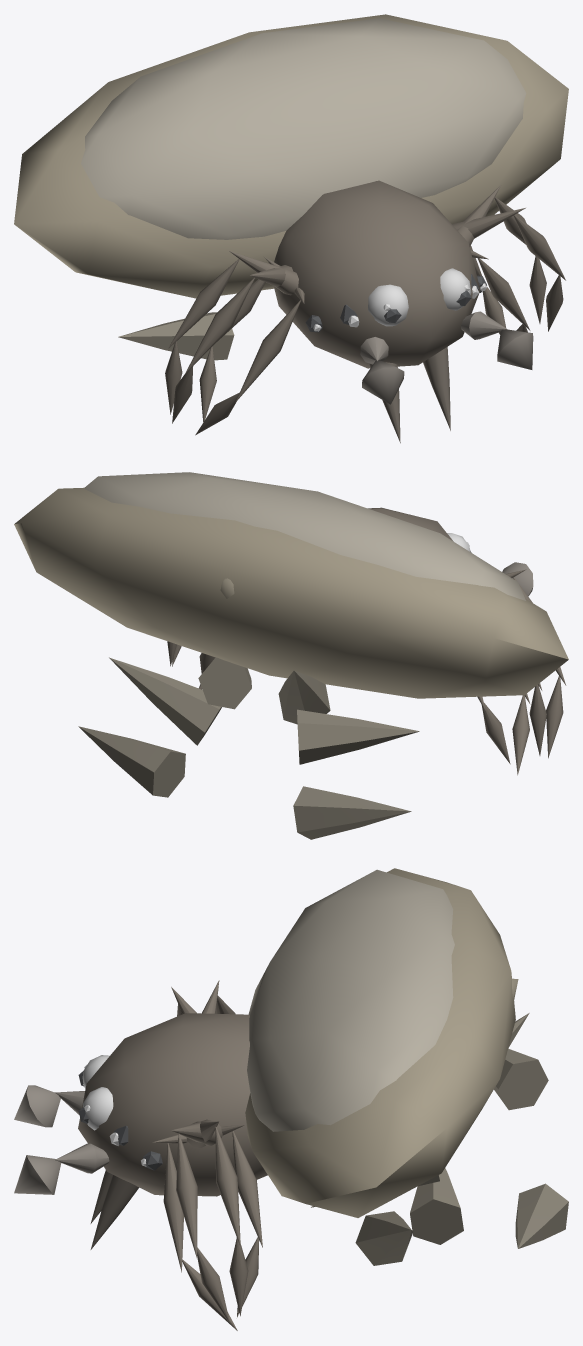
File: thelacantha-brevispina.glb
The picture shows the model from 3 angles, top to bottom: view 1: azimuth 30°, elevation 25°; view 2: azimuth 150°, elevation 25°; view 3: azimuth 270°, elevation 25°; orthographic projection. The views are drawn at different scales.
Parts seen in each view (by area): view 1: abdomen, cephalothorax, leg1-r0, leg2-r0, leg2-l0, leg3-r0, leg1-l0, eye0-r, leg0-r0, palp-l1, palp-r1, fang-l (+5 smaller); view 2: abdomen, leg2-r0, leg3-r0, leg1-r0, leg0-r0, cephalothorax, palp-r1; view 3: abdomen, cephalothorax, leg2-l0, leg1-l0, leg3-l0, leg0-l0, palp-l1, palp-r1, fang-l, eye0-l, palp-l0.
Boxes of the visible parts, x1,y1,x2,y2 form: abdomen: (14, 14, 568, 360); cephalothorax: (273, 180, 480, 368); leg1-r0: (165, 251, 298, 414); leg2-r0: (172, 265, 293, 423); leg2-l0: (452, 208, 565, 331); leg3-r0: (195, 287, 304, 435); leg1-l0: (457, 184, 546, 323); eye0-r: (368, 284, 408, 326); leg0-r0: (199, 257, 280, 421); palp-l1: (497, 329, 533, 369); palp-r1: (362, 360, 404, 404); fang-l: (423, 347, 450, 430); abdomen: (14, 472, 568, 839); leg2-r0: (505, 569, 566, 758); leg3-r0: (512, 693, 530, 775); leg1-r0: (529, 683, 546, 755); leg0-r0: (477, 696, 510, 764); cephalothorax: (368, 507, 453, 541); palp-r1: (502, 562, 533, 596); abdomen: (245, 868, 568, 1265); cephalothorax: (78, 1013, 267, 1196); leg2-l0: (171, 1119, 229, 1322); leg1-l0: (186, 1121, 248, 1316); leg3-l0: (152, 1134, 237, 1330); leg0-l0: (221, 1125, 262, 1317); palp-l1: (14, 1155, 61, 1194); palp-r1: (14, 1085, 60, 1127); fang-l: (90, 1174, 139, 1249); eye0-l: (78, 1087, 113, 1130); palp-l0: (54, 1143, 109, 1173).
Bounding box in the file's own units: 0.5146 × 0.2797 × 0.4183.
